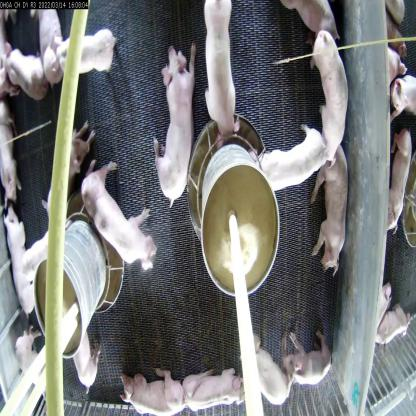Pig: (75, 151, 163, 277), (149, 38, 205, 208), (201, 4, 248, 139), (309, 24, 354, 162), (256, 122, 334, 201), (317, 143, 355, 272), (41, 125, 88, 228), (178, 345, 250, 409), (242, 324, 291, 409), (58, 25, 117, 86), (2, 198, 33, 314), (122, 362, 188, 415), (4, 49, 56, 116), (283, 328, 335, 392), (25, 8, 64, 87), (0, 105, 25, 207)
